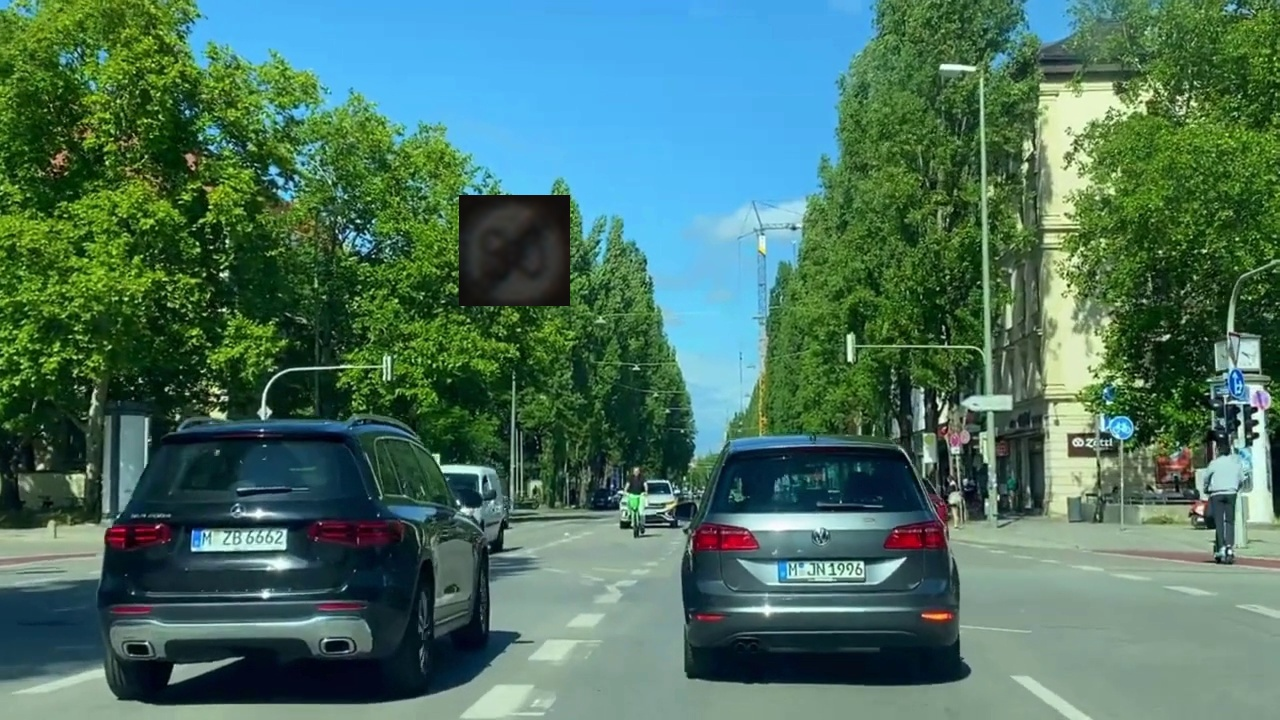End Speed 80: (459, 195, 570, 306)
